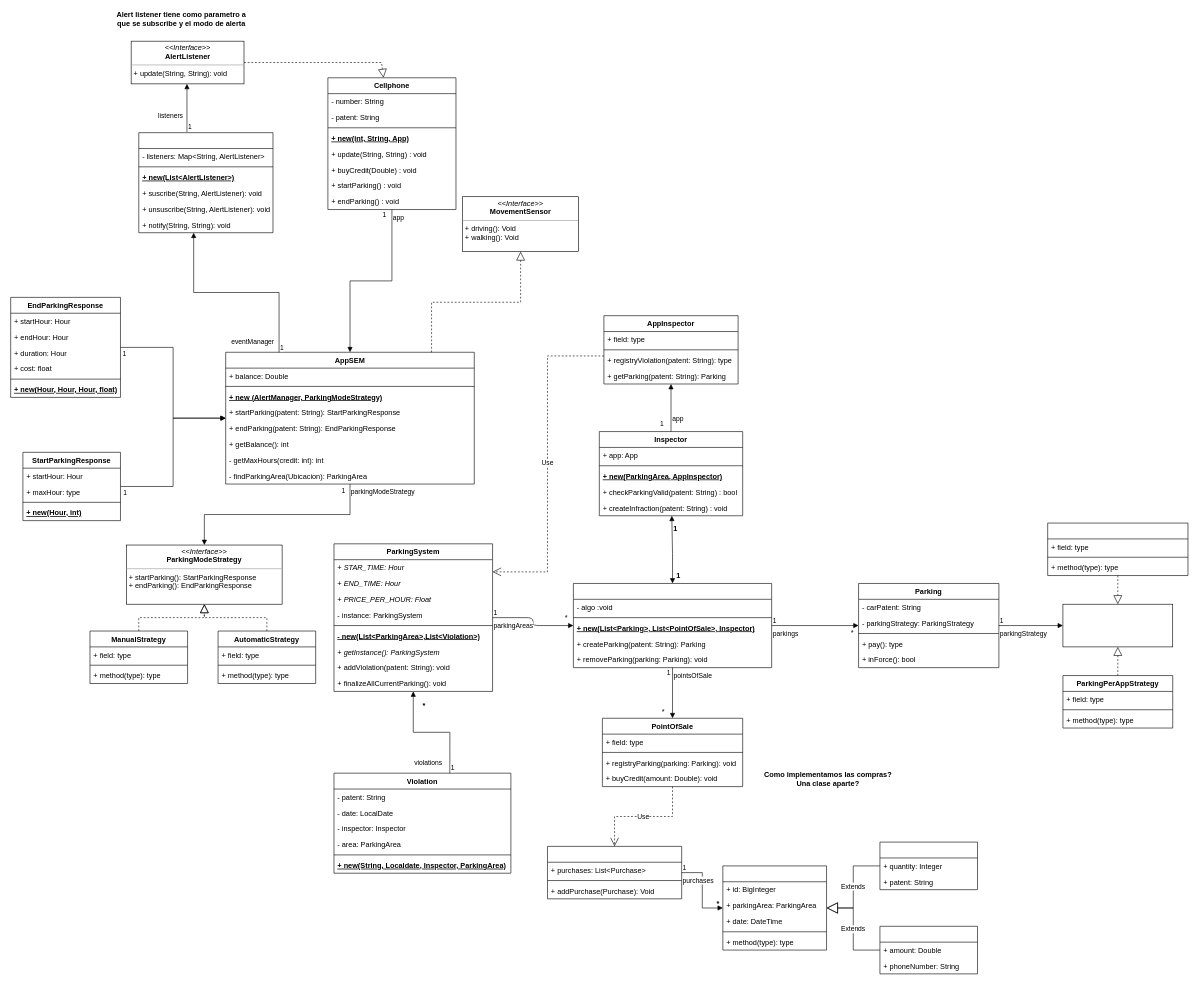
Image size: 1199x986. Some labels were removed from this diagram. Here are the shapes that lost their labels. From the top down, the box of each, then its label:
(138, 132, 273, 233): AlertManager
(1047, 522, 1188, 576): ParkingPerPurchaseStrategy
(573, 583, 772, 668): ParkingArea
(1062, 604, 1173, 647): <<Interface>> ParkingStrategy + pay(): void
(547, 846, 682, 899): ShoppingRecord
(879, 841, 978, 890): HoursPurchase
(722, 865, 827, 950): Purchase
(879, 926, 978, 974): BalancePurchase
